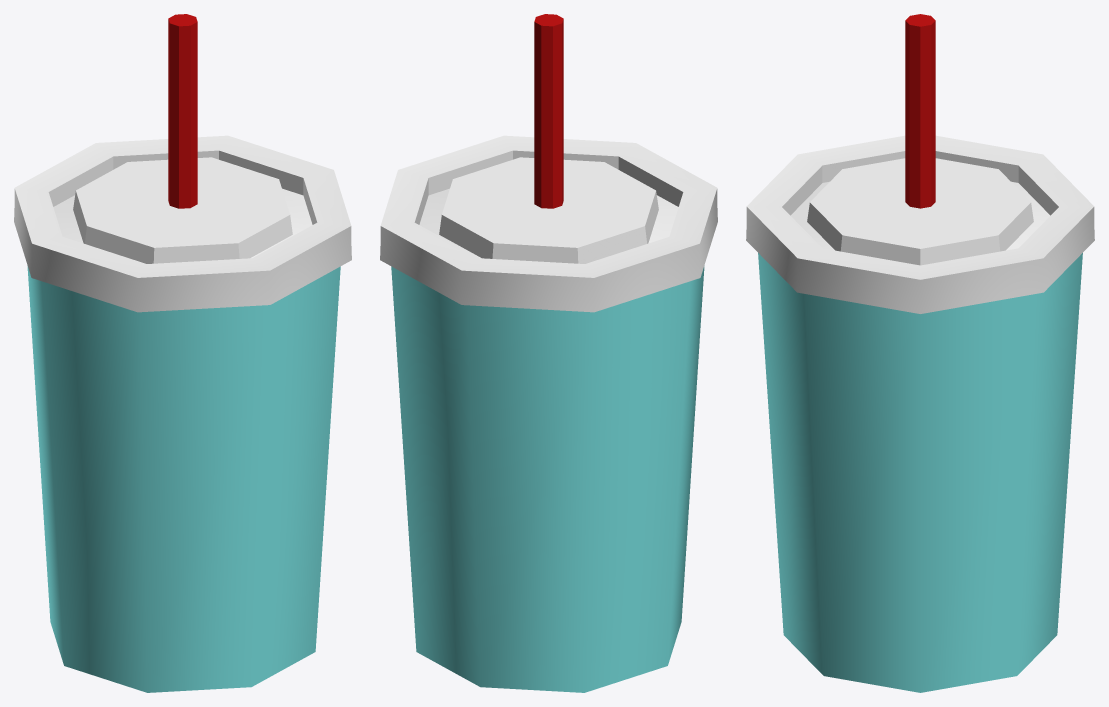
Rendered from Unwrapped_cup3 1.fbx.
3 renders of one model, left to right at view 1: azimuth 30°, elevation 25°; view 2: azimuth 150°, elevation 25°; view 3: azimuth 270°, elevation 25°, orthographic.
Visible parts, largest first — view 1: Cylinder011; view 2: Cylinder011; view 3: Cylinder011.
Part boxes in pixels (x1,y1,x2,y2): Cylinder011: (14, 14, 351, 692); Cylinder011: (380, 14, 717, 692); Cylinder011: (746, 14, 1094, 692).
Bounding box in the file's own units: 28.3 × 55.04 × 28.3.
